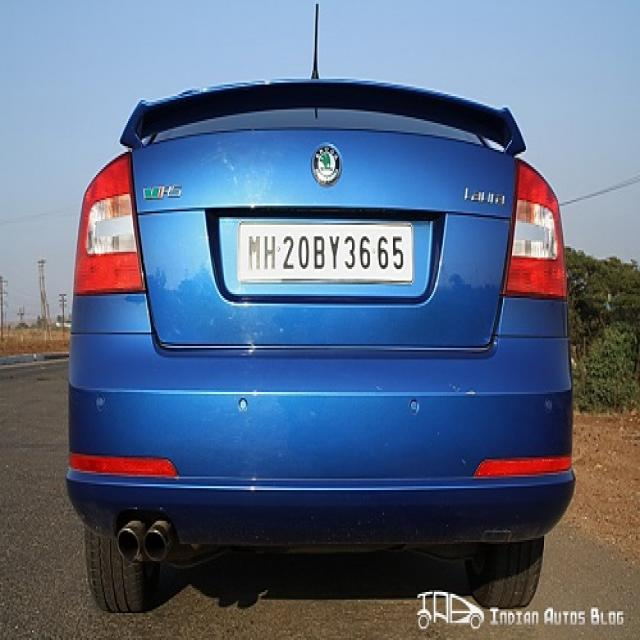license-plate: (236, 217, 414, 283)
